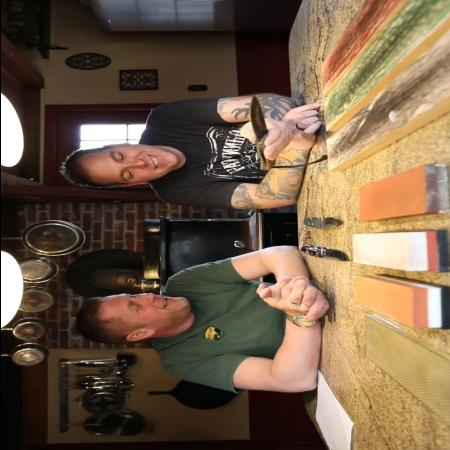long weapon: (231, 86, 289, 150)
